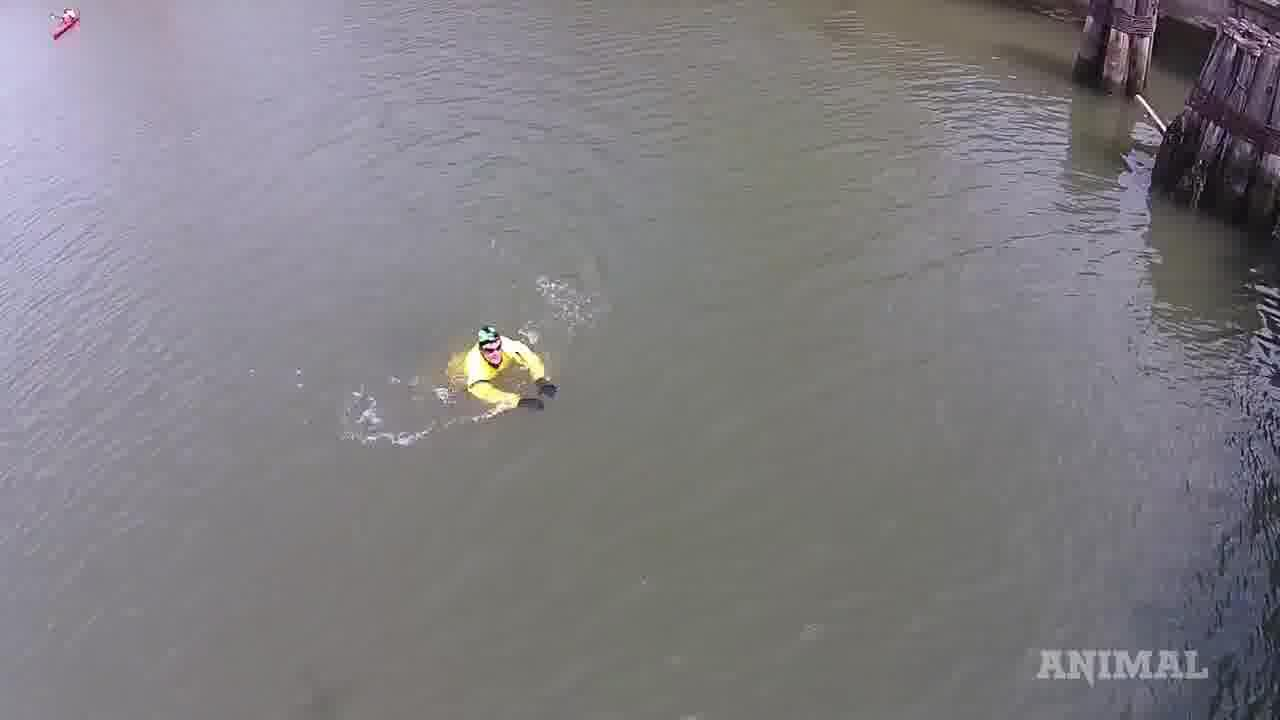swimmer: (416, 301, 570, 419)
